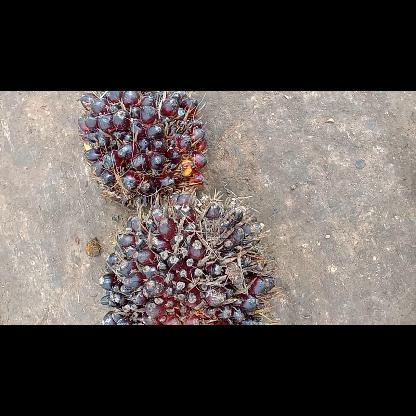TBS mentah: (100, 194, 278, 324), (75, 92, 206, 209)
